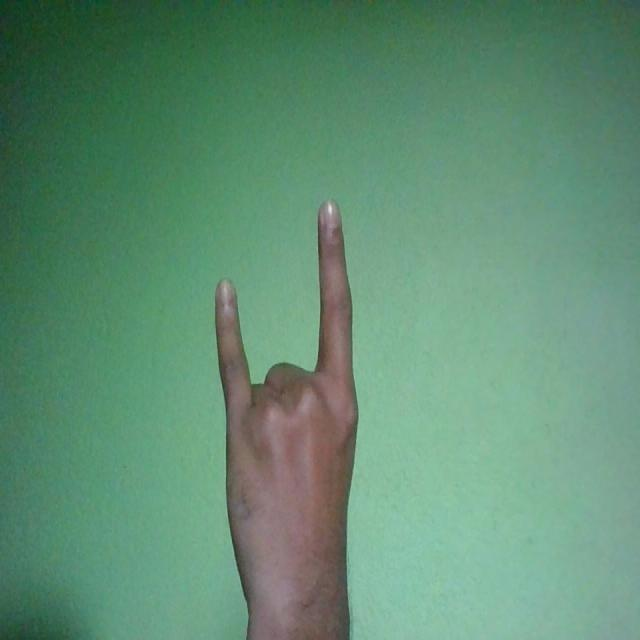open Plam: (216, 200, 360, 634)
